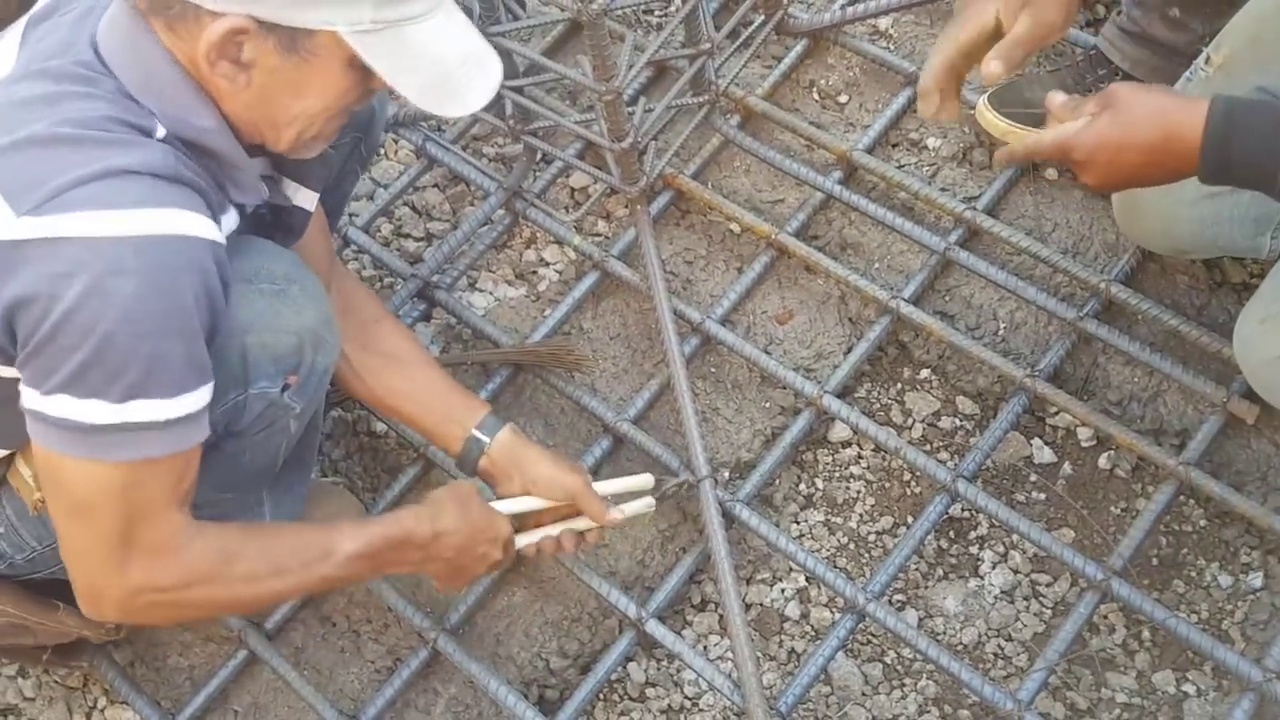helmet-on: (112, 0, 505, 218)
person: (2, 0, 656, 720), (931, 4, 1280, 410)
